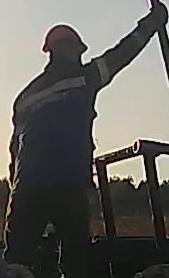gloves: (132, 2, 169, 37)
helmet: (42, 23, 89, 54)
vest: (14, 58, 108, 189)
